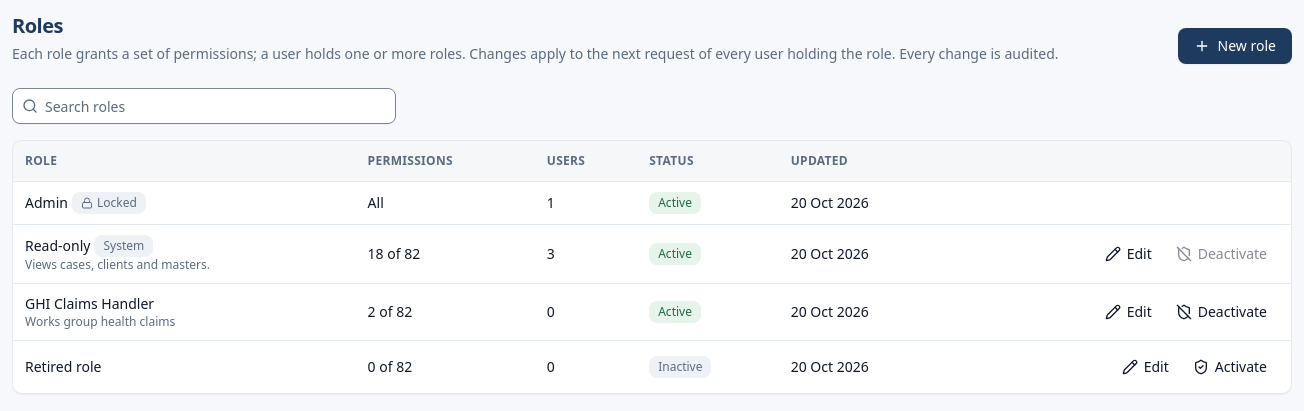
Test: RolesView › searches by name, description and key
This screenshot has width=1304, height=411.
expect the text "GHI Claims Handler" is shown: met, box [25,294,154,312]
Type "claims" into the search field labelled "Search roles".
click(204, 106); type("claims")  # box [12,88,396,124]
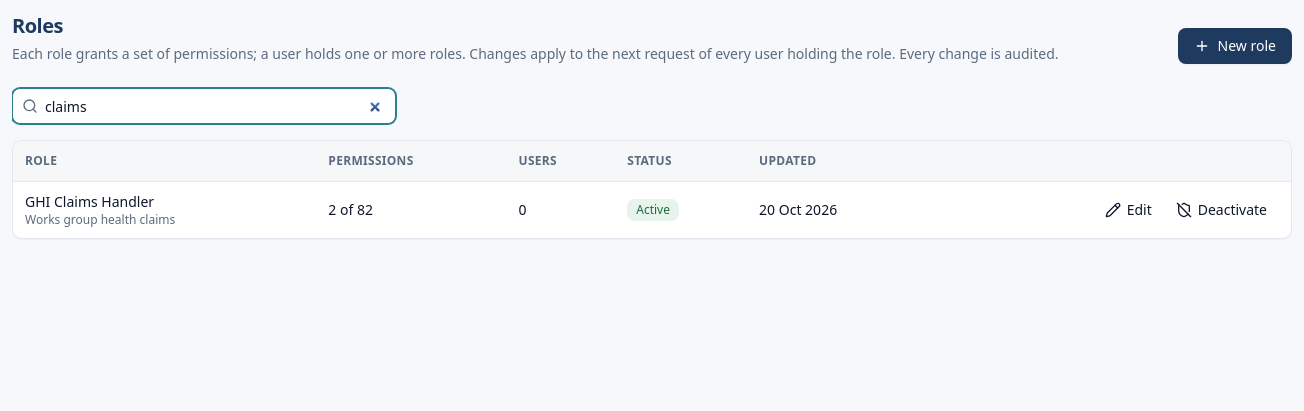
expect the text "GHI Claims Handler" is shown: met, box [25,192,154,210]
expect the text "Read-only" is gone: met
